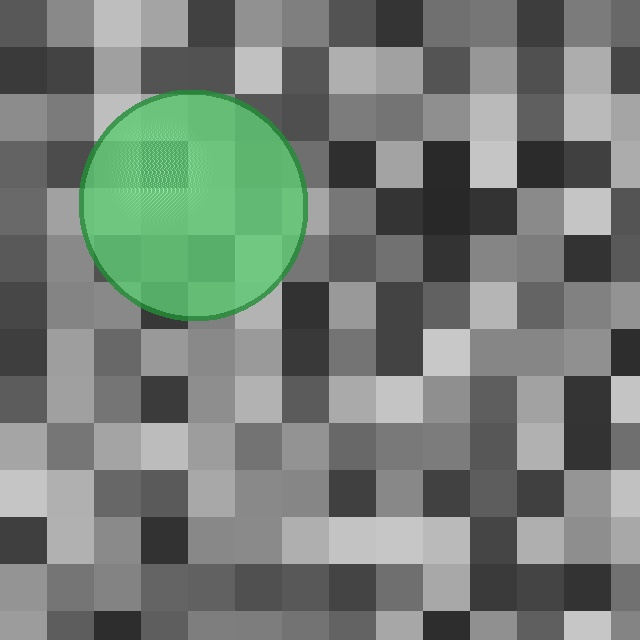lens: (81, 92, 305, 318)
